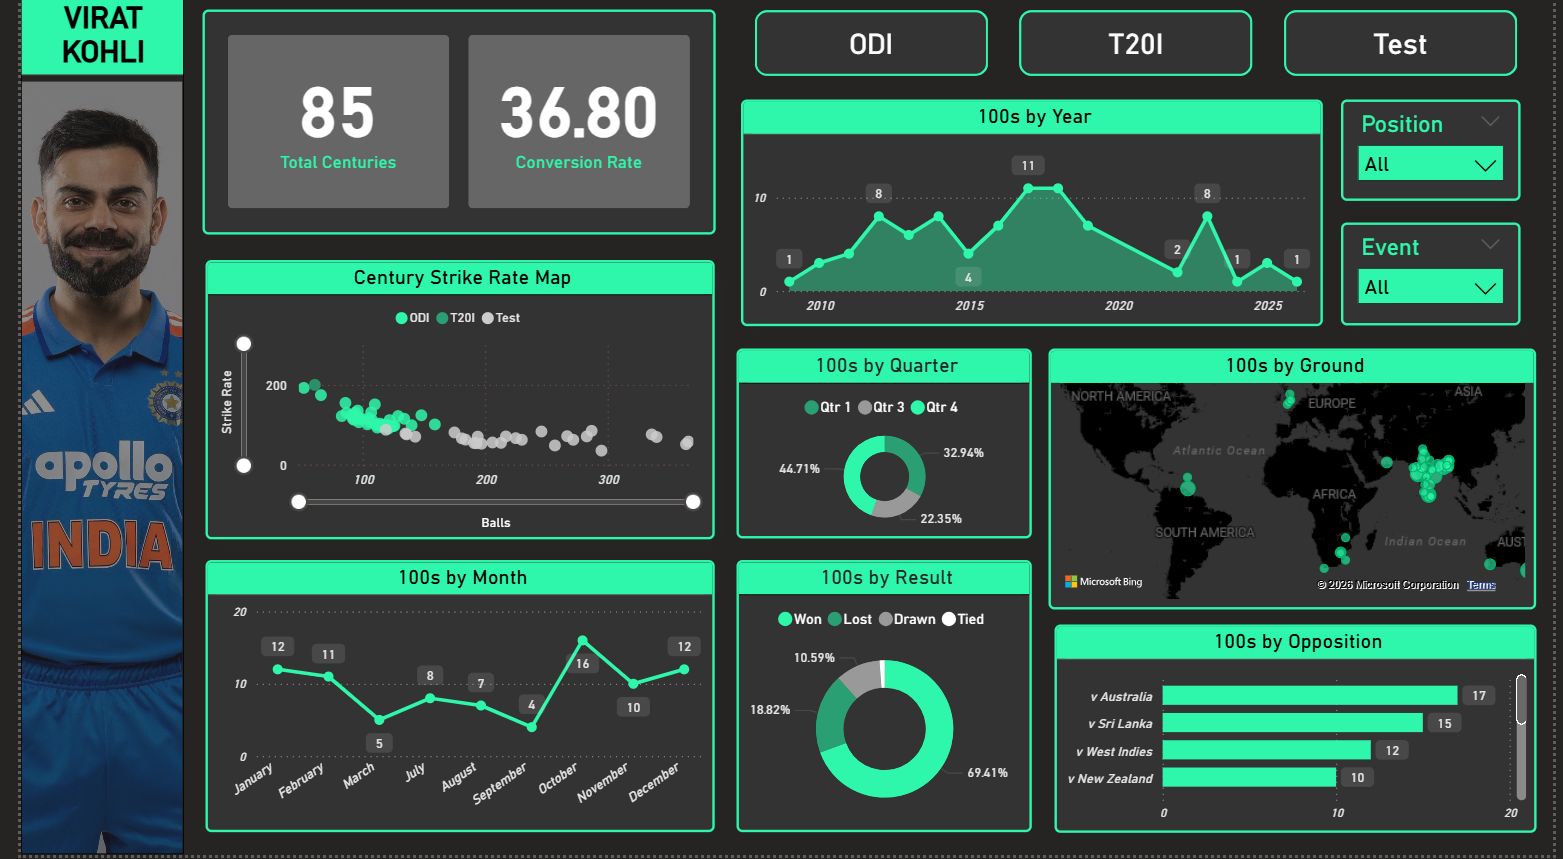

Layout of this report page (visuals, bound fields, positions):
{"tool":"powerbi","page":{"name":"Centuries","canvas":[1280,720],"ordinal":2},"visuals":[{"type":"image","title":"VIRAT KOHLI","box":[0,0,136.3,719.2],"z":0},{"type":"cardVisual","fields":{"Data":["All.100s","All.Conversion"]},"box":[151.4,13.6,428.5,187.8],"z":1000},{"type":"advancedSlicerVisual","fields":{"Values":["All.Format"]},"box":[598.1,6.1,667.8,71.2],"z":2000},{"type":"lineChart","fields":{"Y":["All.100s"],"Category":["All.Date.Variation.Date Hierarchy.Year"]},"box":[601.1,89.3,486.1,189.3],"z":3000},{"type":"slicer","fields":{"Values":["All.Event"]},"box":[1102.3,192.3,149.9,86.3],"z":4000},{"type":"donutChart","fields":{"Category":["All.Result"],"Y":["All.100s"]},"box":[598.1,473.9,246.8,227.1],"z":5000},{"type":"donutChart","fields":{"Y":["All.100s"],"Category":["All.Date.Variation.Date Hierarchy.Quarter"]},"box":[598.1,296.8,246.8,159],"z":6000},{"type":"lineChart","fields":{"Y":["All.100s"],"Category":["All.Date.Variation.Date Hierarchy.Month"]},"box":[154.4,473.9,425.5,227.1],"z":7000},{"type":"map","fields":{"Size":["All.100s"],"Category":["All.Ground"]},"box":[858.6,297.3,407.3,218],"z":8000},{"type":"clusteredBarChart","fields":{"Y":["All.100s"],"Category":["All.Opposition"]},"box":[863.1,526.9,402.8,174.1],"z":9000},{"type":"scatterChart","title":"Century Strike Rate Map","fields":{"Series":["All.Format"],"Y":["All.Strike Rate"],"X":["All.Balls"]},"box":[154.4,222.6,425.5,233.2],"z":10000},{"type":"slicer","fields":{"Values":["All.Pos(2)"]},"box":[1102.3,89.3,149.9,84.8],"z":11000}]}

Visuals, with their boxes in screenshot pixels (x1, y1, x2, y2), scaled from the page's 1280x720 canvas onto the 1563x859 screenshot:
"VIRAT KOHLI" image: box=[0, 0, 166, 858]
cardVisual - All.100s x All.Conversion: box=[185, 16, 708, 240]
advancedSlicerVisual - All.Format: box=[730, 7, 1546, 92]
lineChart - All.100s x All.Date.Variation.Date Hierarchy.Year: box=[734, 107, 1328, 332]
slicer - All.Event: box=[1346, 229, 1529, 332]
donutChart - All.Result x All.100s: box=[730, 565, 1032, 836]
donutChart - All.100s x All.Date.Variation.Date Hierarchy.Quarter: box=[730, 354, 1032, 544]
lineChart - All.100s x All.Date.Variation.Date Hierarchy.Month: box=[189, 565, 708, 836]
map - All.100s x All.Ground: box=[1048, 355, 1546, 615]
clusteredBarChart - All.100s x All.Opposition: box=[1054, 629, 1546, 836]
"Century Strike Rate Map" scatterChart: box=[189, 266, 708, 544]
slicer - All.Pos(2): box=[1346, 107, 1529, 208]
